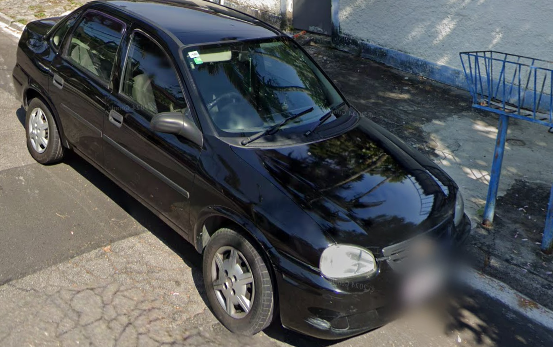car: (14, 2, 471, 341)
